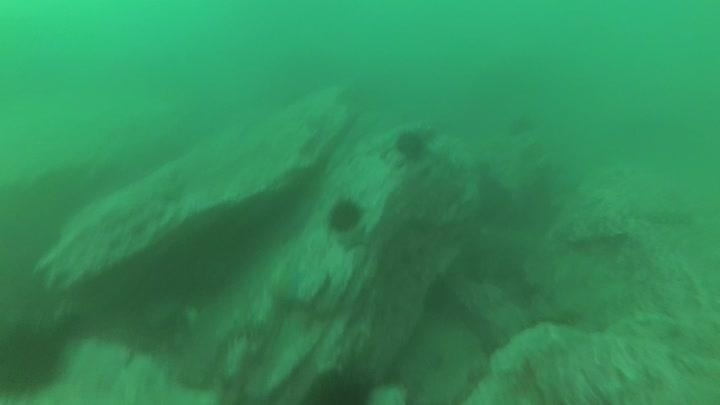echinus: (1, 319, 69, 399), (301, 362, 380, 405), (324, 196, 366, 236), (392, 127, 431, 164), (498, 107, 537, 144)
holothurian: (632, 202, 697, 229)
starfish: (334, 222, 372, 254)
